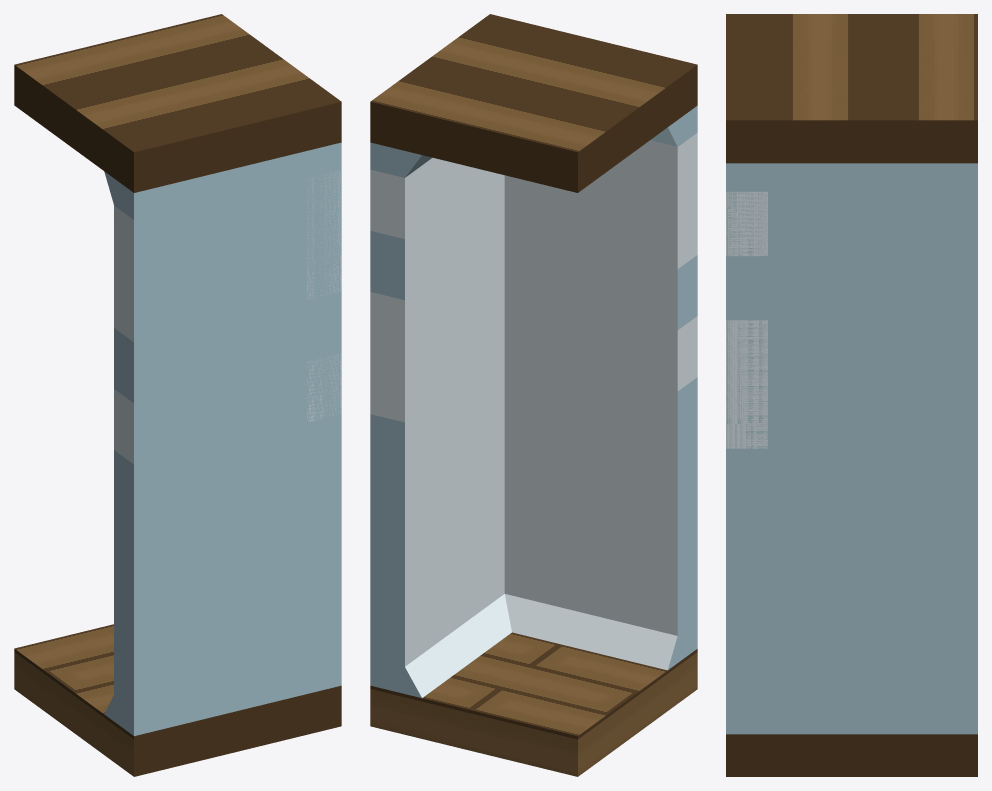
Rendered from HomeCornerFront1.obj.
3 renders of one model, left to right at view 1: azimuth 30°, elevation 25°; view 2: azimuth 150°, elevation 25°; view 3: azimuth 270°, elevation 25°, orthographic. The views are drawn at different scales.
Parts seen in each view (by area): view 1: Wall, Mid; view 2: Wall, Mid; view 3: Wall, Mid.
Part boxes in pixels (left/top/right/bottom): Wall: left=104, top=142, right=341, bottom=736; Mid: left=14, top=14, right=341, bottom=776; Wall: left=370, top=105, right=697, bottom=697; Mid: left=370, top=14, right=697, bottom=776; Wall: left=726, top=163, right=977, bottom=734; Mid: left=726, top=14, right=977, bottom=776.
Bounding box in the file's own units: 1 × 2.88 × 1.
2 materials, 2 textured.
